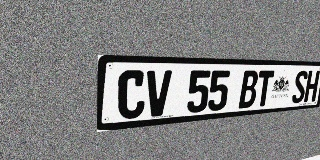5: (187, 70, 211, 113), (208, 70, 230, 111)
B: (238, 71, 259, 109)
C: (117, 70, 146, 120)
H: (304, 71, 320, 102)
S: (291, 71, 308, 104)
T: (255, 71, 274, 107)
V: (145, 70, 172, 117)
